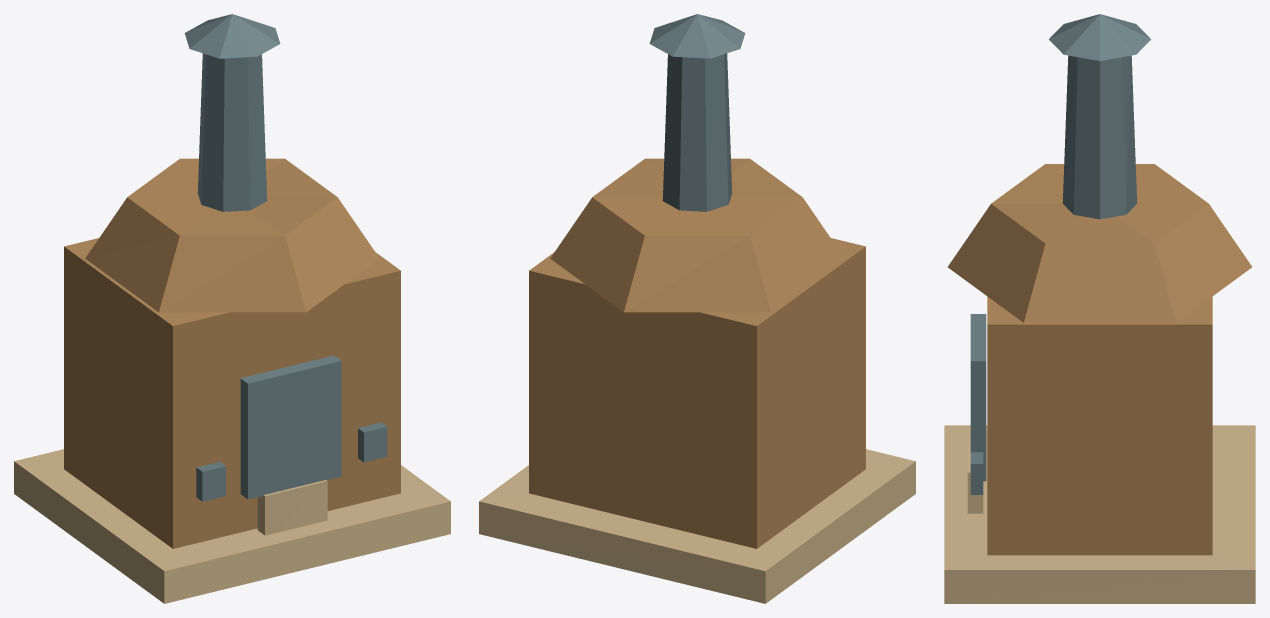
Rendered from Wood-Furnace.glb.
The picture shows the model from 3 angles, left to right: view 1: azimuth 30°, elevation 25°; view 2: azimuth 150°, elevation 25°; view 3: azimuth 270°, elevation 25°; orthographic projection. The views are drawn at different scales.
Visible parts, largest first — view 1: wood-furnace-static-furnace-muted-teal, wood-furnace-static-furnace-fire-stone, wood-furnace-static-furnace-dark-iron, wood-furnace-static-furnace-galvanized, wood-furnace-static-furnace-cream; view 2: wood-furnace-static-furnace-muted-teal, wood-furnace-static-furnace-fire-stone, wood-furnace-static-furnace-dark-iron, wood-furnace-static-furnace-galvanized; view 3: wood-furnace-static-furnace-muted-teal, wood-furnace-static-furnace-fire-stone, wood-furnace-static-furnace-dark-iron, wood-furnace-static-furnace-galvanized, wood-furnace-static-furnace-cream.
Boxes of the visible parts, bbox=[...] form: wood-furnace-static-furnace-muted-teal: bbox=[64, 158, 400, 548]; wood-furnace-static-furnace-fire-stone: bbox=[14, 449, 450, 603]; wood-furnace-static-furnace-dark-iron: bbox=[197, 53, 341, 499]; wood-furnace-static-furnace-galvanized: bbox=[184, 14, 387, 501]; wood-furnace-static-furnace-cream: bbox=[257, 480, 327, 535]; wood-furnace-static-furnace-muted-teal: bbox=[529, 158, 865, 548]; wood-furnace-static-furnace-fire-stone: bbox=[479, 449, 915, 603]; wood-furnace-static-furnace-dark-iron: bbox=[662, 53, 732, 211]; wood-furnace-static-furnace-galvanized: bbox=[649, 14, 745, 58]; wood-furnace-static-furnace-muted-teal: bbox=[947, 164, 1252, 555]; wood-furnace-static-furnace-fire-stone: bbox=[944, 425, 1255, 603]; wood-furnace-static-furnace-dark-iron: bbox=[970, 55, 1137, 481]; wood-furnace-static-furnace-galvanized: bbox=[970, 14, 1150, 494]; wood-furnace-static-furnace-cream: bbox=[967, 441, 983, 513].
Size of the model in its own units: 2.2 by 3.67 by 2.
